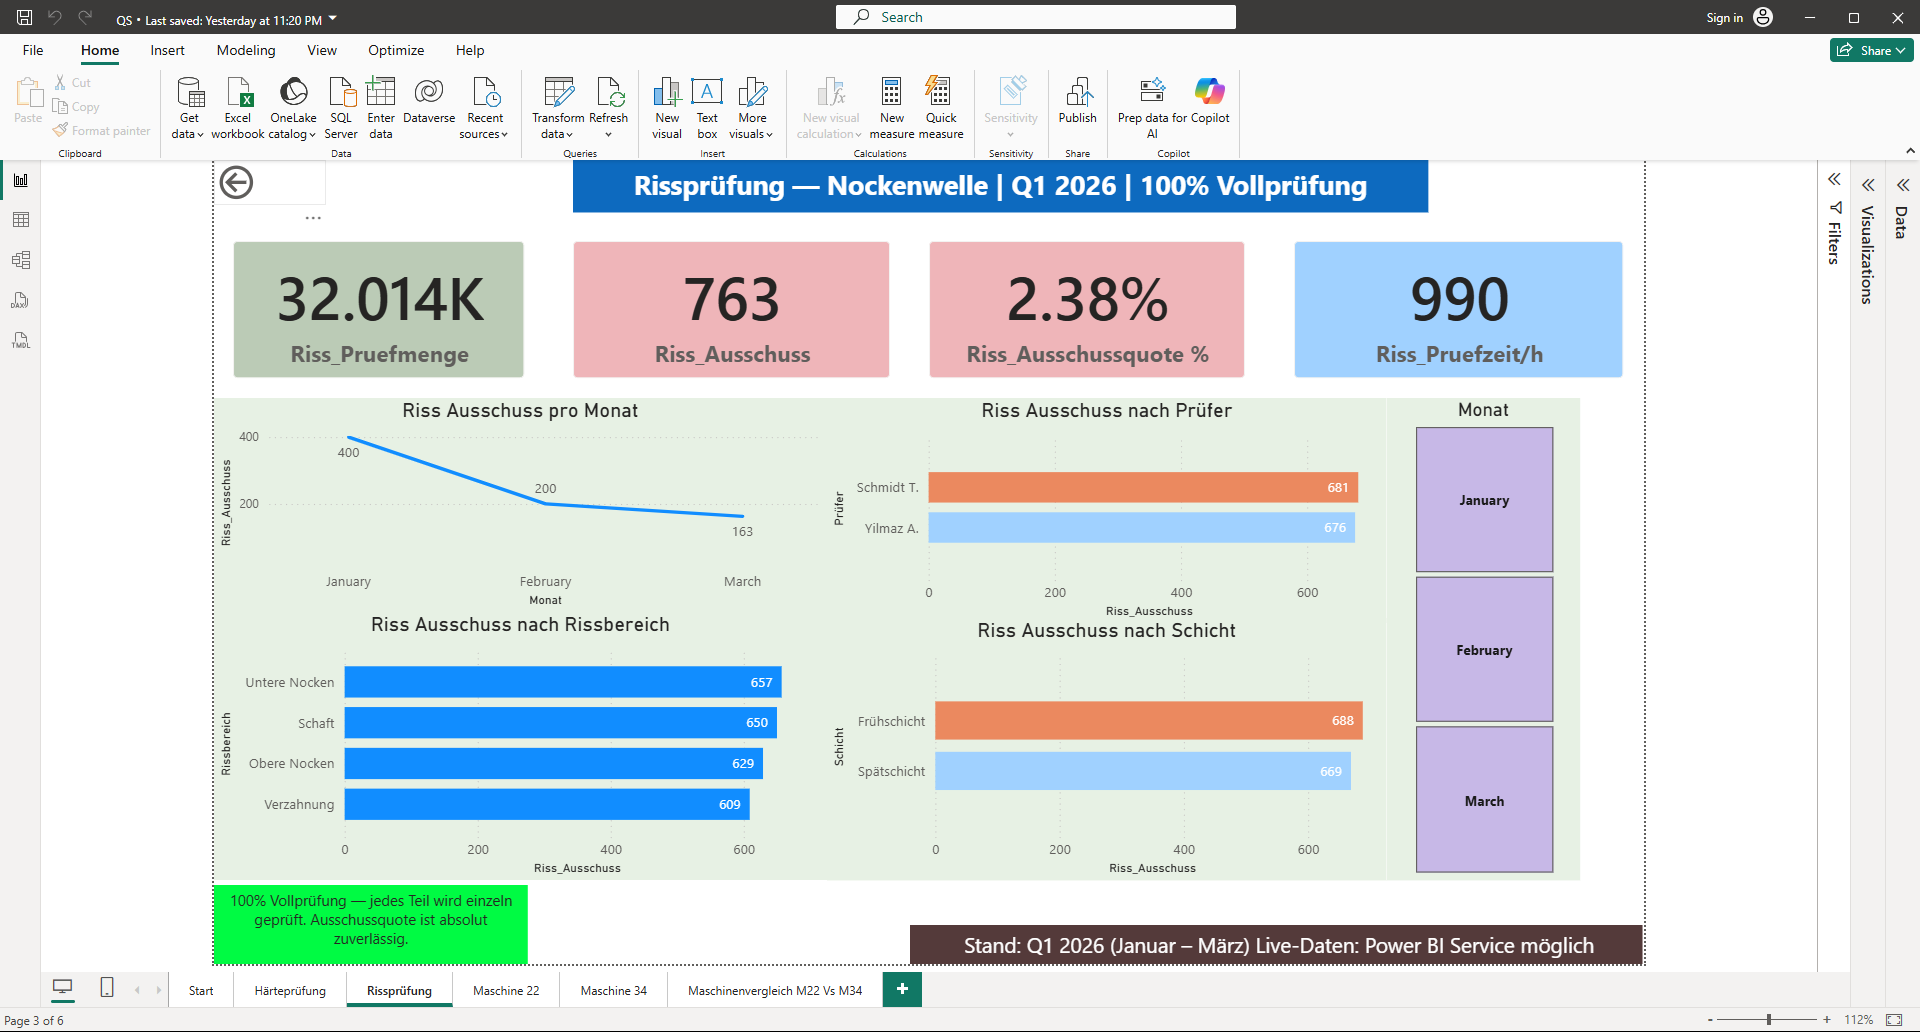

Layout of this report page (visuals, bound fields, positions):
{"tool":"powerbi","page":{"name":"Rissprüfung","canvas":[1280,720],"ordinal":2},"visuals":[{"type":"textbox","box":[321.5,0,765.7,47.5],"z":0},{"type":"cardVisual","title":"Riss Prüfmenge","fields":{"Data":["Datumstabelle.Riss_Pruefmenge"]},"box":[0,55.5,295.5,157.6],"z":1000},{"type":"cardVisual","title":"Riss Ausschuss in Stk","fields":{"Data":["Datumstabelle.Riss_Ausschuss"]},"box":[304.5,55.5,318.8,157.6],"z":2000},{"type":"cardVisual","title":"Riss Ausschussquote %","fields":{"Data":["Datumstabelle.Riss_Ausschussquote"]},"box":[623.3,55.5,317,157.6],"z":3000},{"type":"cardVisual","title":"Riss Prüfzeit/h","fields":{"Data":["Datumstabelle.Riss_Pruefzeit"]},"box":[950.1,55.5,329.6,157.6],"z":4000},{"type":"textbox","box":[0,649.3,281.2,70.7],"z":5000},{"type":"lineChart","title":"Riss Ausschuss pro Monat","fields":{"Category":["Datumstabelle.Date.Variation.Date Hierarchy.Month"],"Y":["Datumstabelle.Riss_Ausschuss"]},"box":[0,213.1,549,191.6],"z":6000},{"type":"barChart","title":"Riss Ausschuss nach Rissbereich","fields":{"Category":["Rissprüfung_Für M22.Rissbereich"],"Y":["Datumstabelle.Riss_Ausschuss"]},"box":[0,404.8,549,240],"z":7000},{"type":"barChart","title":"Riss Ausschuss nach Prüfer","fields":{"Category":["Rissprüfung_Für M22.Prüfer"],"Y":["Datumstabelle.Riss_Ausschuss"]},"box":[549,213.1,501.5,201.5],"z":8000},{"type":"barChart","title":"Riss Ausschuss nach Schicht","fields":{"Category":["Rissprüfung_Für M22.Schicht"],"Y":["Datumstabelle.Riss_Ausschuss"]},"box":[549,410.1,501.5,234.6],"z":9000},{"type":"slicer","title":"Monat","fields":{"Values":["Datumstabelle.Date.Variation.Date Hierarchy.Month"]},"box":[1050.4,213.1,172.8,431.6],"z":10000},{"type":"actionButton","box":[0,0,100,40],"z":11000},{"type":"textbox","box":[623.3,685.1,656.4,34.9],"z":12000}]}

Visuals, with their boxes on the page's 1280x720 design canvas (x1, y1, x2, y2). These are canvas units, not pixel positions in the 1920x1032 screenshot, which may show the page scaled, cropped or inside an application window:
textbox: l=322, t=0, r=1087, b=48
"Riss Prüfmenge" cardVisual: l=0, t=56, r=296, b=213
"Riss Ausschuss in Stk" cardVisual: l=304, t=56, r=623, b=213
"Riss Ausschussquote %" cardVisual: l=623, t=56, r=940, b=213
"Riss Prüfzeit/h" cardVisual: l=950, t=56, r=1280, b=213
textbox: l=0, t=649, r=281, b=720
"Riss Ausschuss pro Monat" lineChart: l=0, t=213, r=549, b=405
"Riss Ausschuss nach Rissbereich" barChart: l=0, t=405, r=549, b=645
"Riss Ausschuss nach Prüfer" barChart: l=549, t=213, r=1050, b=415
"Riss Ausschuss nach Schicht" barChart: l=549, t=410, r=1050, b=645
"Monat" slicer: l=1050, t=213, r=1223, b=645
actionButton: l=0, t=0, r=100, b=40
textbox: l=623, t=685, r=1280, b=720
